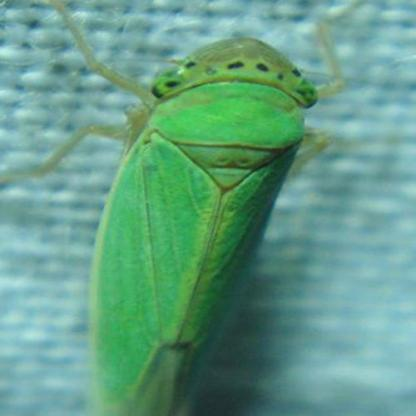green-leafhopper: (91, 22, 321, 416)
